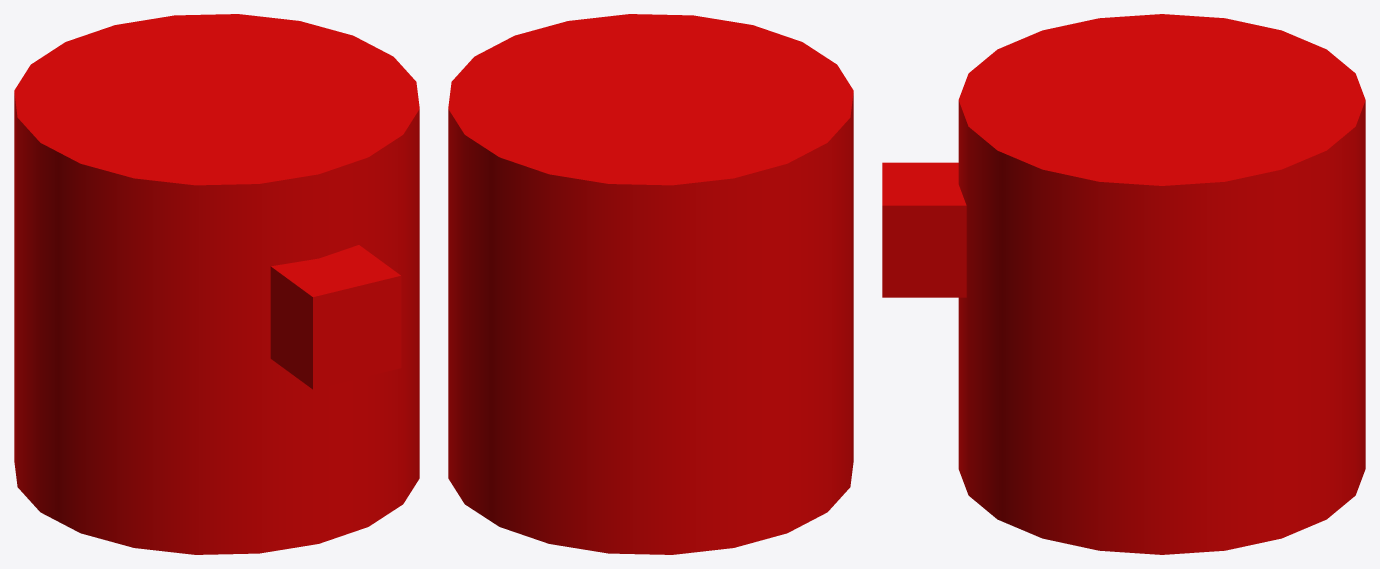
The model's file is psample.fbx.
3 renders of one model, left to right at view 1: azimuth 30°, elevation 25°; view 2: azimuth 150°, elevation 25°; view 3: azimuth 270°, elevation 25°, orthographic.
Visible parts, largest first — view 1: pCube2; view 2: pCube2; view 3: pCube2.
Boxes of the visible parts, bbox=[...] form: pCube2: bbox=[14, 14, 419, 554]; pCube2: bbox=[448, 14, 853, 554]; pCube2: bbox=[882, 14, 1365, 554].
Bounding box in the file's own units: 0.02 × 0.02 × 0.0237.
